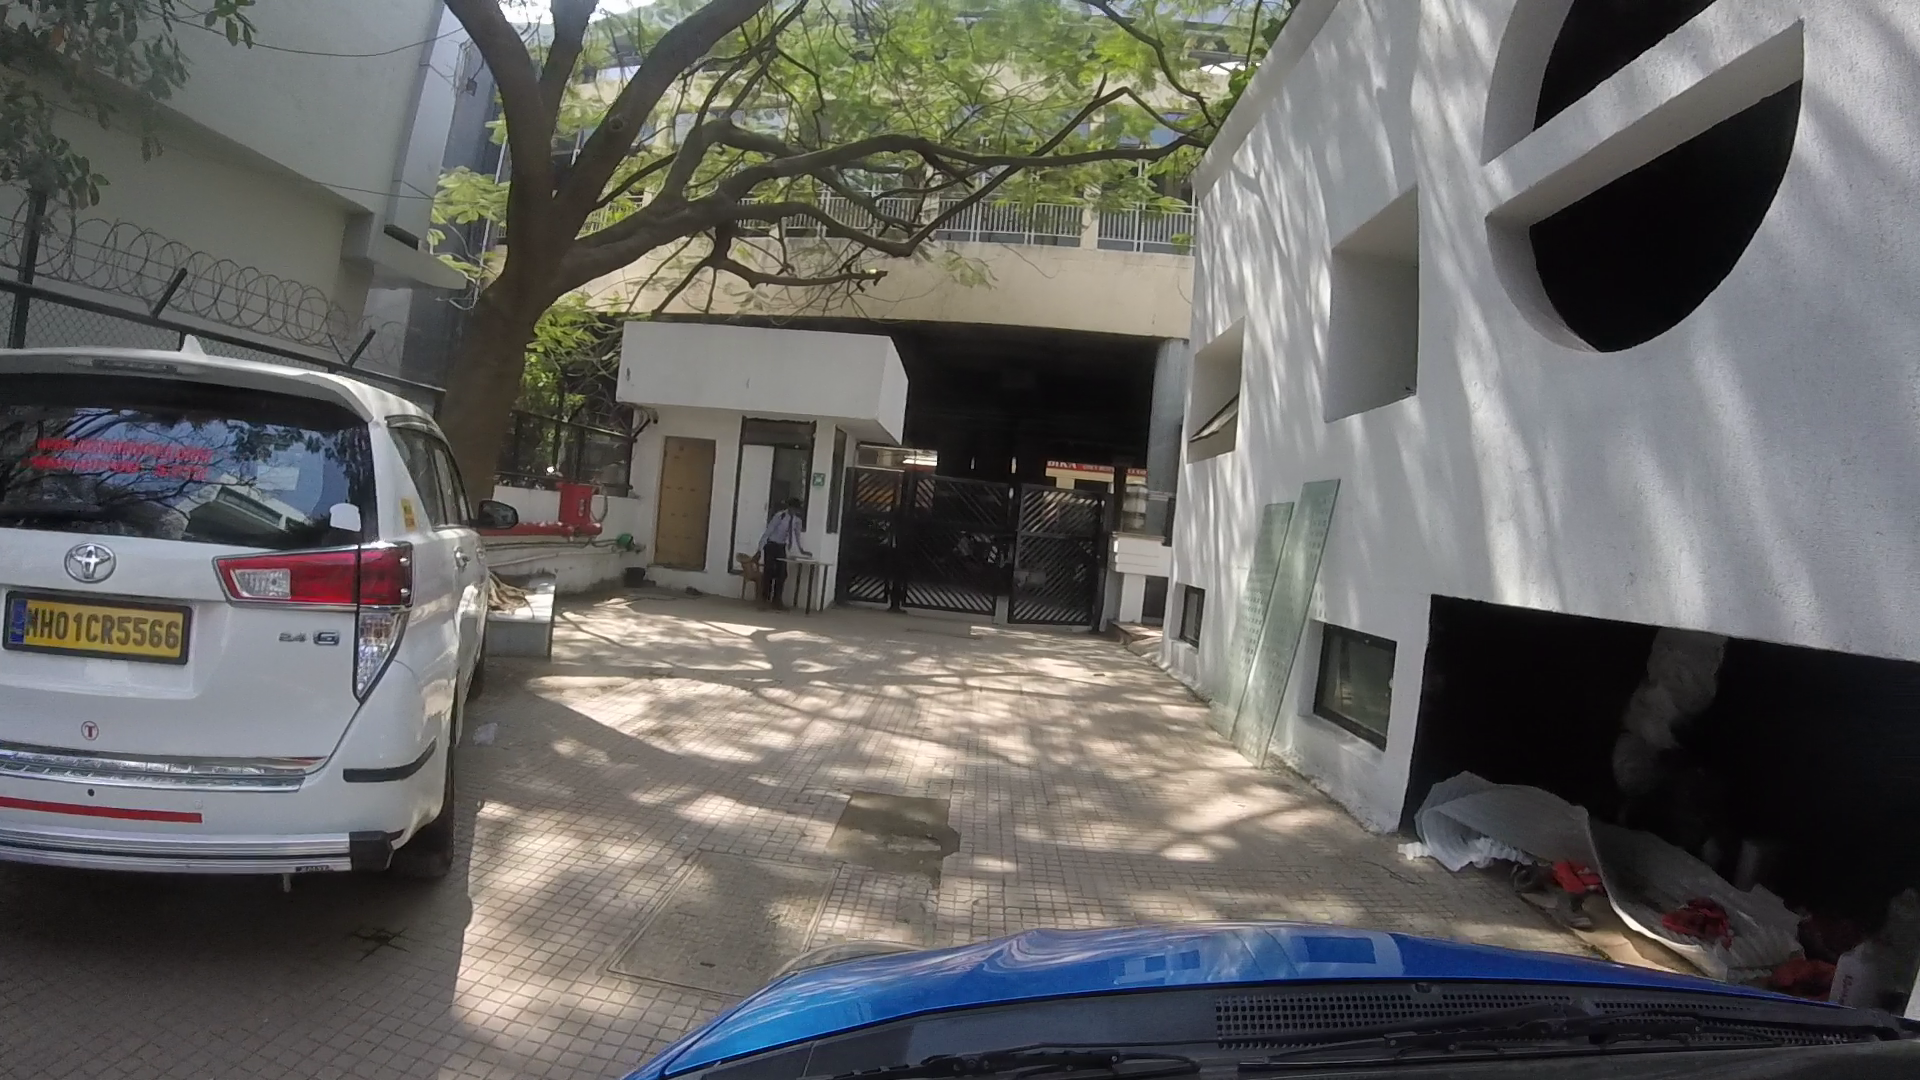car: (3, 348, 498, 886)
